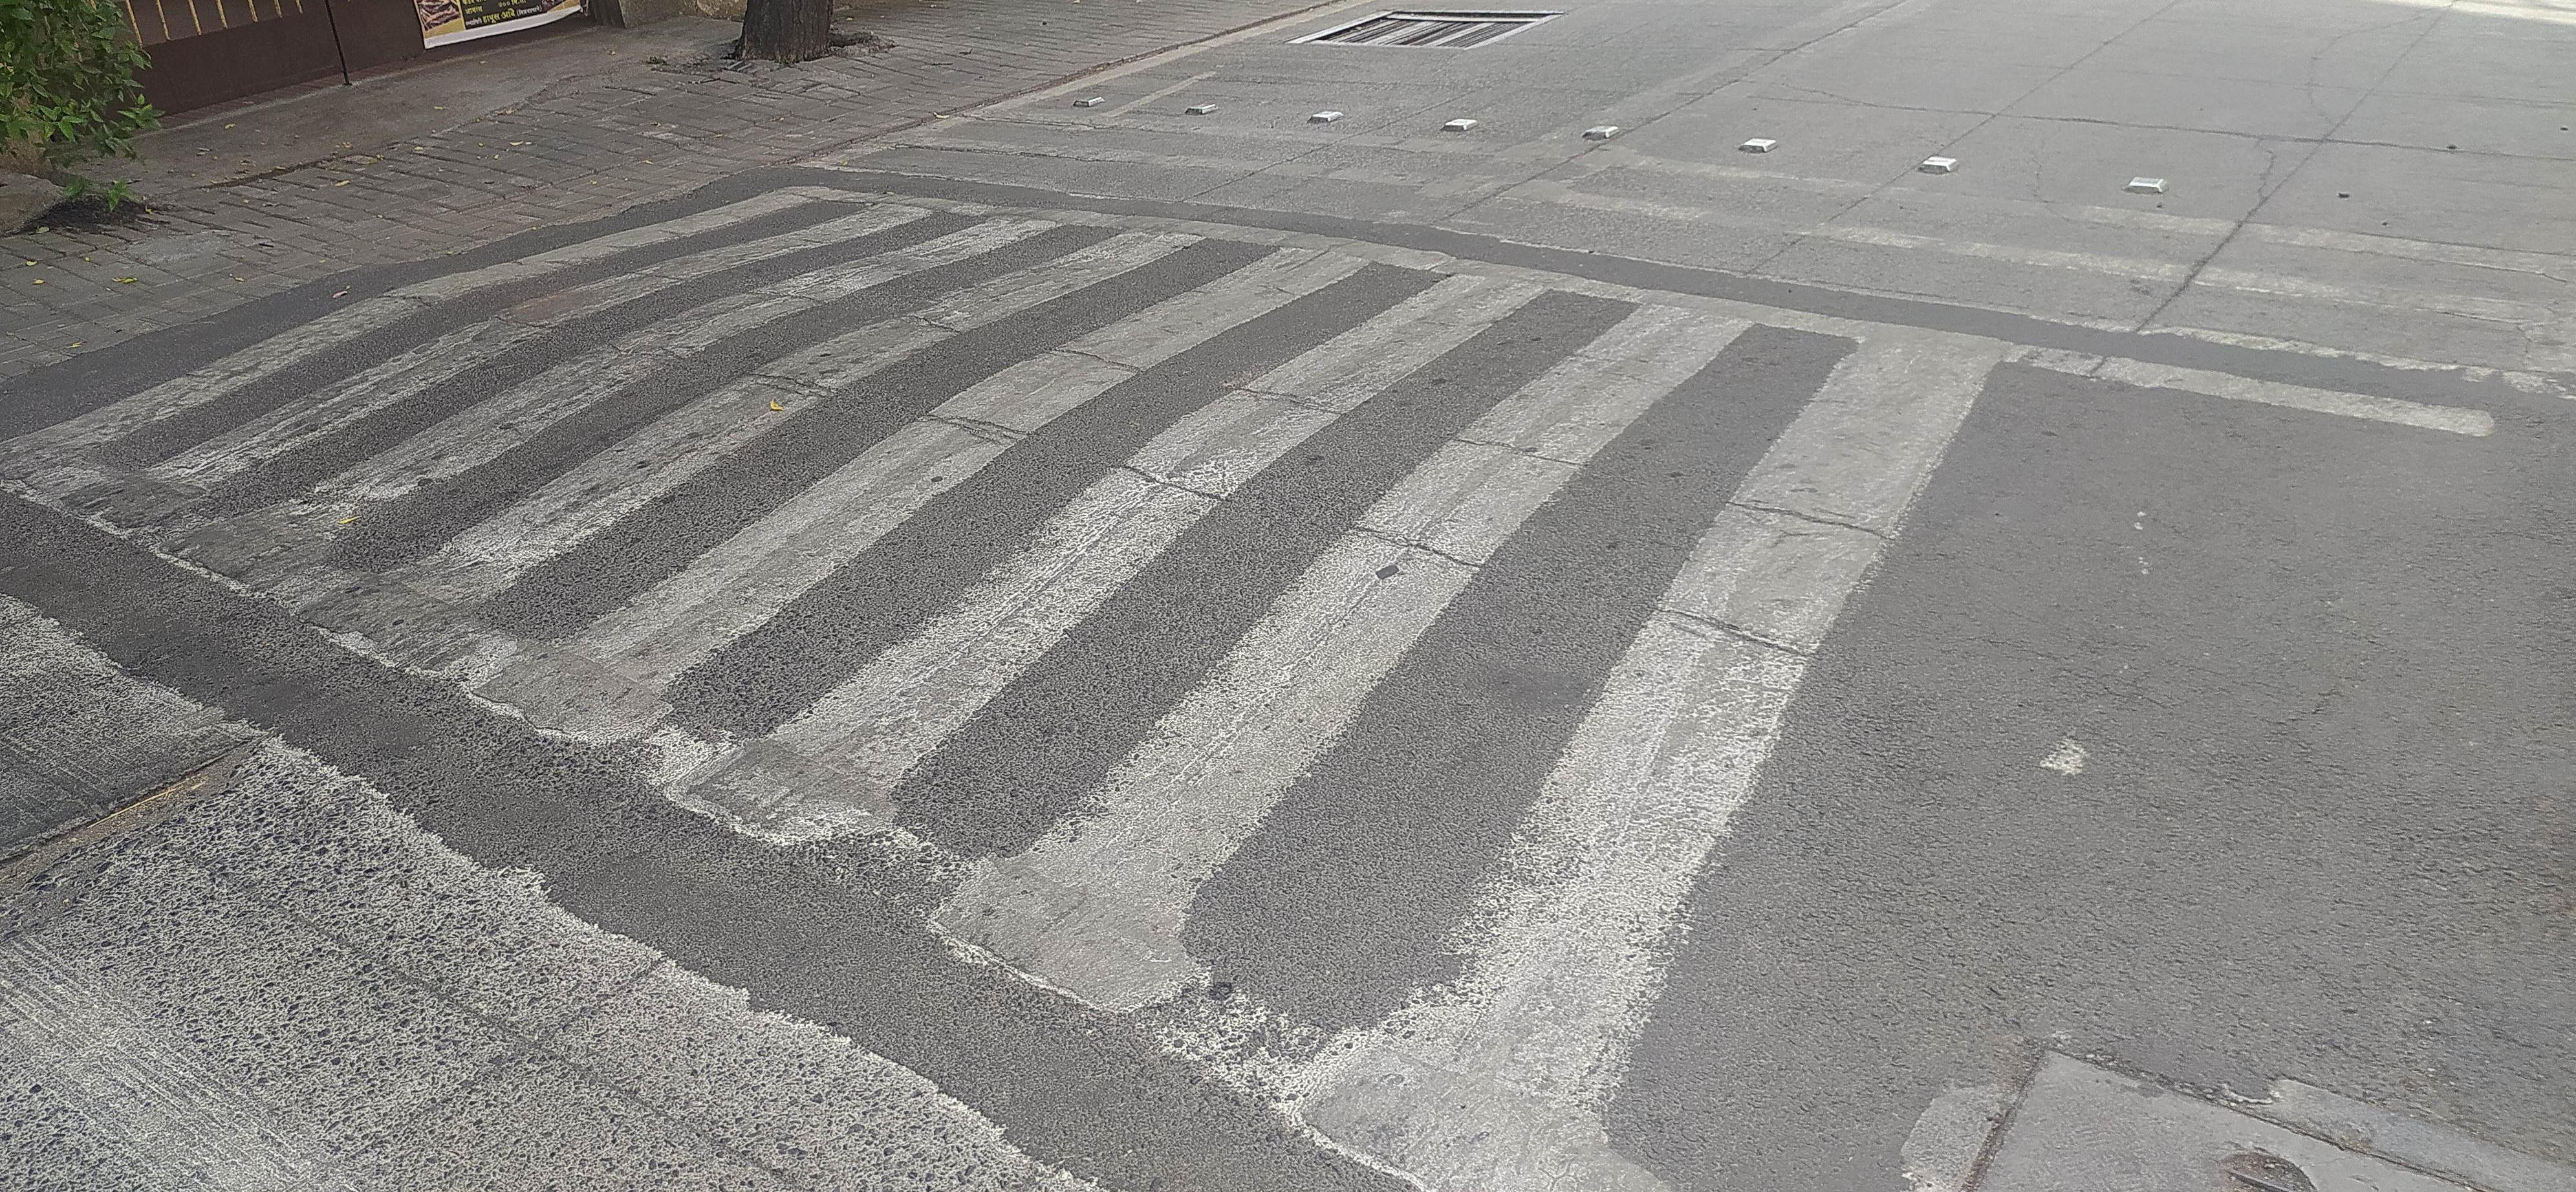speed-bump: (6, 146, 2575, 1192)
